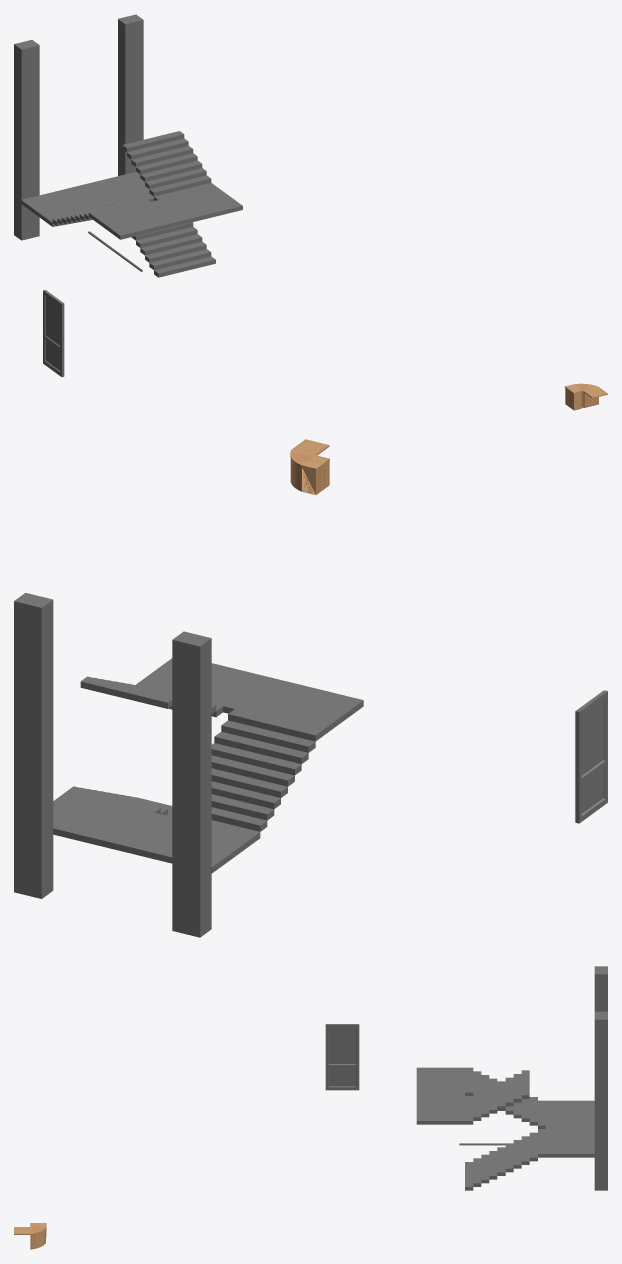
Rendered from stairs.obj.
3 renders of one model, top to bottom at view 1: azimuth 30°, elevation 25°; view 2: azimuth 150°, elevation 25°; view 3: azimuth 270°, elevation 25°, orthographic. The views are drawn at different scales.
Visible parts, largest first — view 1: group34 pCube137, group34 group22 pCube135, group34 pCube136, group34 pCube134 group22, group34 pCube123, pCube122 group34, group34 group22 group19 pCube127, group34 group22 group21 pCube129, group34 group22 group19 pCube125, group34 group22 group21 pCube131, group34 group22 group21 pCube125, group34 group22 group21 pCube127 (+6 smaller); view 2: group34 pCube137, group34 pCube136, group34 pCube134 group22, group34 group22 pCube135, group34 pCube123, pCube122 group34, group34 group22 group20 pCube131, group34 group22 group20 pCube132, group34 group22 group20 pCube133, group34 group22 group21 pCube131, group34 group22 group20 pCube130, group34 group22 group20 pCube129 (+5 smaller); view 3: group34 pCube134 group22, group34 group22 pCube135, group34 pCube136, group34 pCube123, group34 pCube137, pCube122 group34.
Part boxes in pixels (<box>): group34 pCube137: <box>14,40,39,240</box>; group34 group22 pCube135: <box>93,186,242,239</box>; group34 pCube136: <box>118,14,143,175</box>; group34 pCube134 group22: <box>21,171,150,223</box>; group34 pCube123: <box>43,290,64,376</box>; pCube122 group34: <box>564,383,607,410</box>; group34 group22 group19 pCube127: <box>140,234,202,255</box>; group34 group22 group21 pCube129: <box>131,145,193,166</box>; group34 group22 group19 pCube125: <box>149,249,211,270</box>; group34 group22 group21 pCube131: <box>122,131,184,152</box>; group34 group22 group21 pCube125: <box>149,175,211,196</box>; group34 group22 group21 pCube127: <box>140,160,202,181</box>; group34 pCube137: <box>172,631,211,937</box>; group34 pCube136: <box>14,593,53,898</box>; group34 pCube134 group22: <box>53,791,253,873</box>; group34 group22 pCube135: <box>136,658,363,736</box>; group34 pCube123: <box>575,690,607,823</box>; pCube122 group34: <box>290,439,329,494</box>; group34 group22 group20 pCube131: <box>214,731,308,764</box>; group34 group22 group20 pCube132: <box>221,720,315,752</box>; group34 group22 group20 pCube133: <box>228,709,322,741</box>; group34 group22 group21 pCube131: <box>80,676,172,708</box>; group34 group22 group20 pCube130: <box>211,743,301,775</box>; group34 group22 group20 pCube129: <box>211,755,294,786</box>; group34 pCube134 group22: <box>546,1100,594,1157</box>; group34 group22 pCube135: <box>416,1067,464,1124</box>; group34 pCube136: <box>594,1011,607,1190</box>; group34 pCube123: <box>325,1024,359,1090</box>; group34 pCube137: <box>594,966,607,1011</box>; pCube122 group34: <box>14,1223,46,1249</box>.
Size of the model in its own units: 1428 by 700 by 2203.
